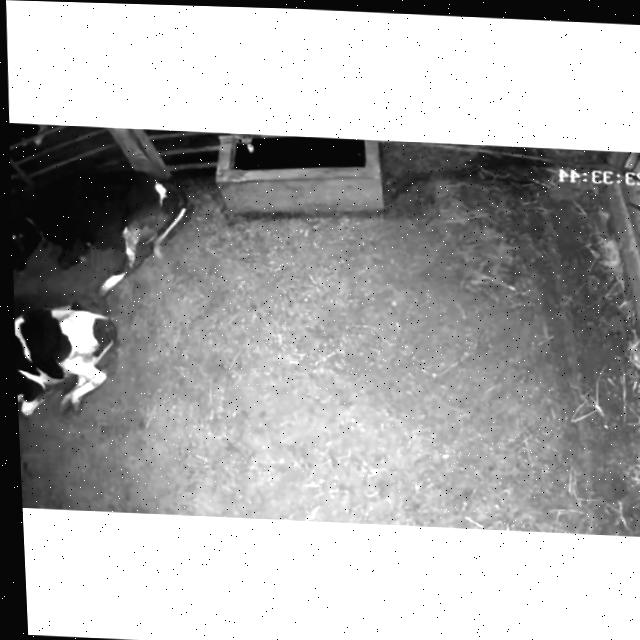lay: (8, 158, 202, 300), (13, 296, 140, 468)
